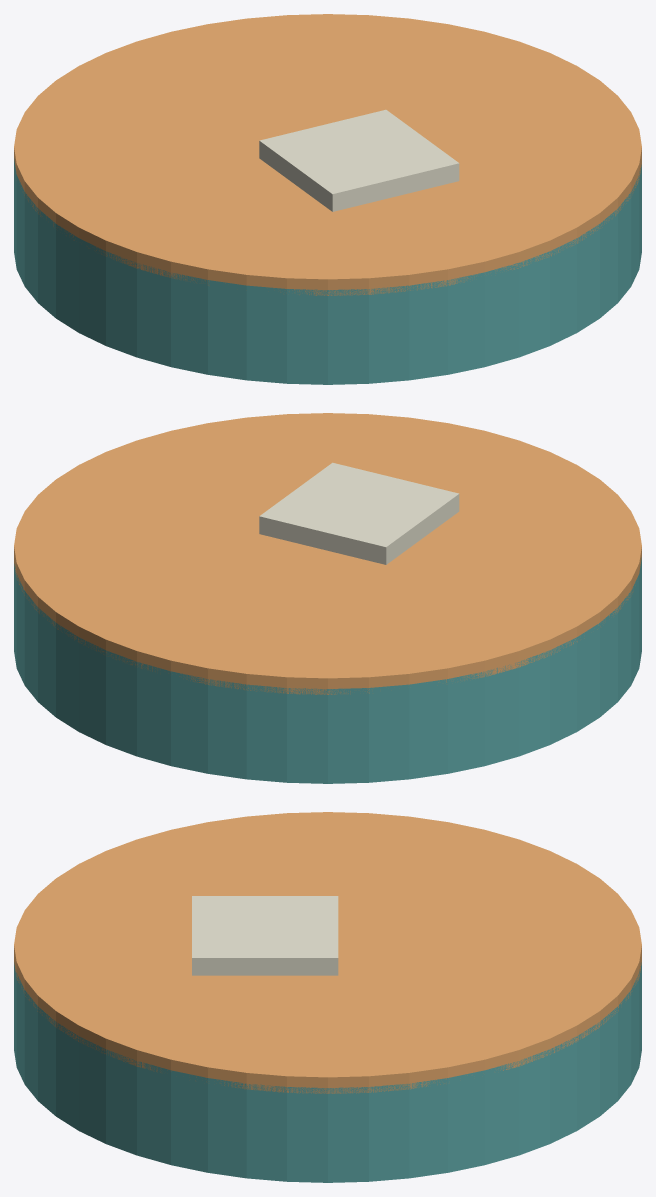
The model's file is carrier_platform.fbx.
The picture shows the model from 3 angles, top to bottom: view 1: azimuth 30°, elevation 25°; view 2: azimuth 150°, elevation 25°; view 3: azimuth 270°, elevation 25°; orthographic projection.
Parts seen in each view (by area): view 1: carrier_platform_Rim, carrier_platform, carrier_platform_SeatMarker; view 2: carrier_platform_Rim, carrier_platform, carrier_platform_SeatMarker; view 3: carrier_platform_Rim, carrier_platform, carrier_platform_SeatMarker.
Boxes of the visible parts, x1,y1,x2,y2 form: carrier_platform_Rim: (14, 14, 641, 295); carrier_platform: (14, 158, 641, 384); carrier_platform_SeatMarker: (259, 109, 459, 211); carrier_platform_Rim: (14, 413, 641, 694); carrier_platform: (14, 557, 641, 783); carrier_platform_SeatMarker: (259, 462, 459, 564); carrier_platform_Rim: (14, 812, 641, 1093); carrier_platform: (14, 962, 641, 1182); carrier_platform_SeatMarker: (192, 896, 338, 975).
Size of the model in its own units: 1.2 by 0.26 by 1.2.
